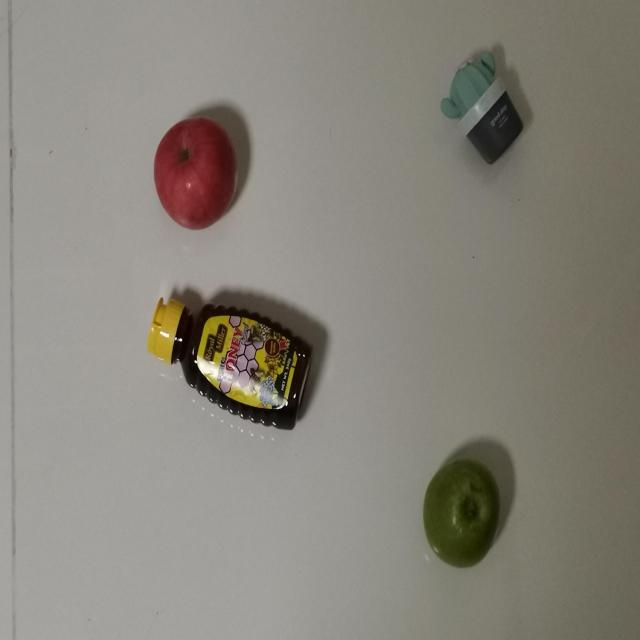Apple: (147, 113, 244, 246), (415, 462, 500, 573)
